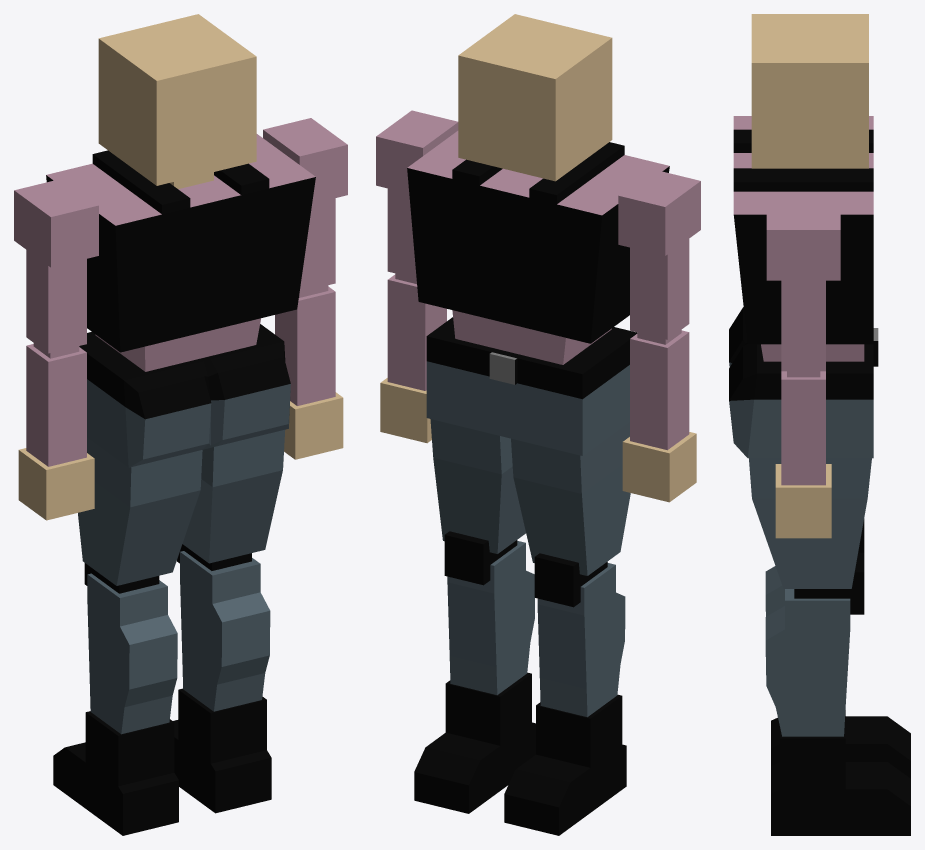
File: Person.glb
3 renders of one model, left to right at view 1: azimuth 30°, elevation 25°; view 2: azimuth 150°, elevation 25°; view 3: azimuth 270°, elevation 25°, orthographic. The views are drawn at different scales.
Parts seen in each view (by area): view 1: Person; view 2: Person; view 3: Person.
Part boxes in pixels (x1=…): Person: x1=14, y1=14, x2=347, y2=835; Person: x1=376, y1=14, x2=700, y2=835; Person: x1=729, y1=14, x2=910, y2=835.
Size of the model in its own units: 0.74 by 1.8 by 0.39.
